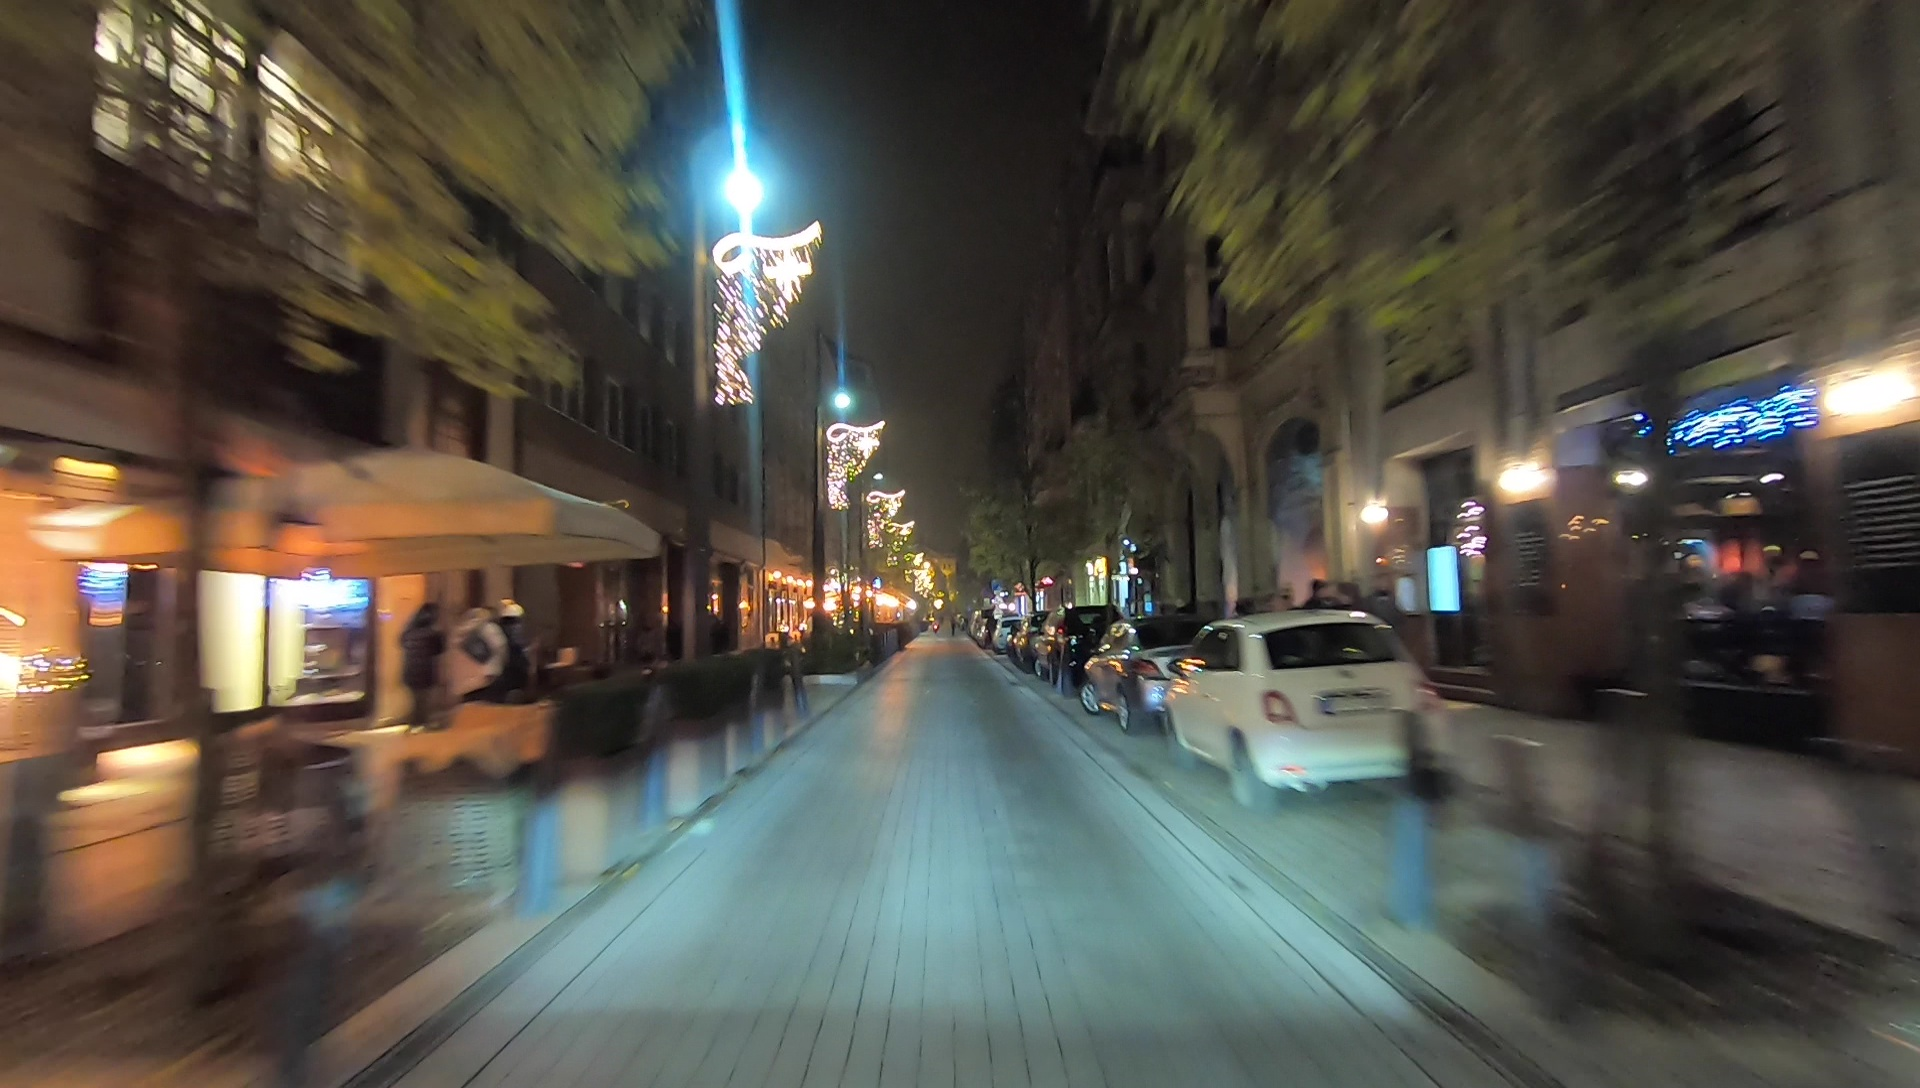person: (397, 599, 449, 728), (454, 608, 497, 730), (493, 600, 536, 717)
